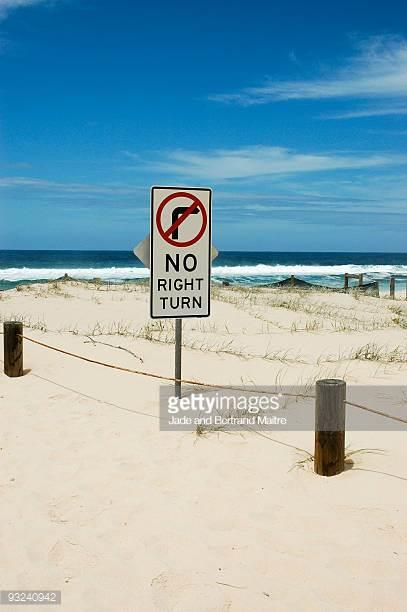no_right_turn: (156, 190, 207, 246)
